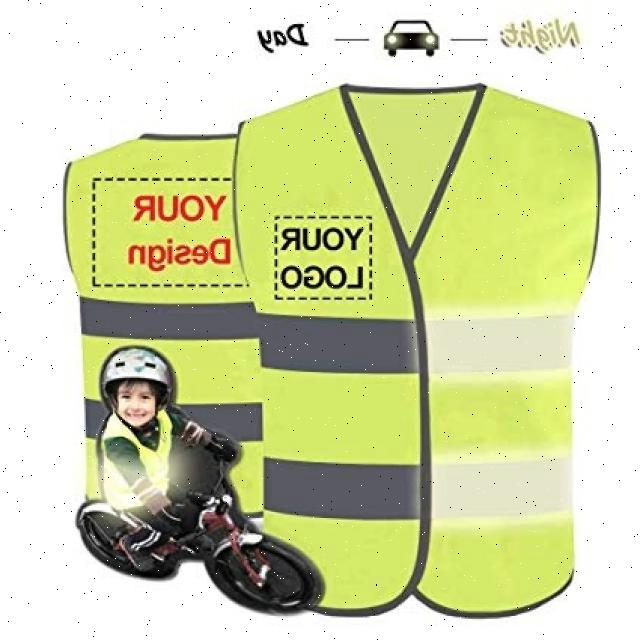Vest: (257, 108, 595, 600), (80, 132, 248, 488)
